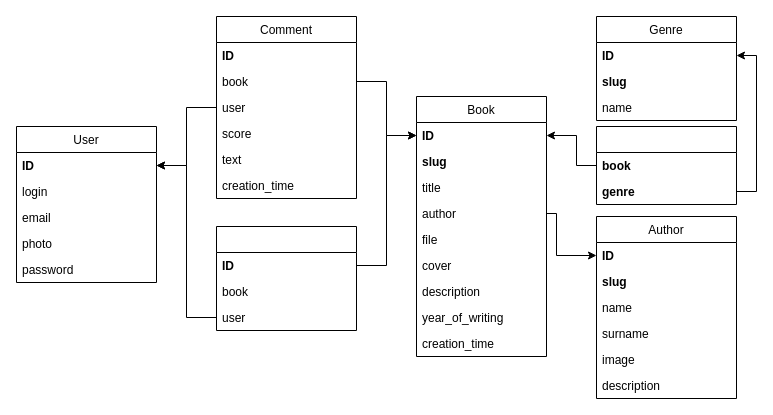
This 773x415 diagram has some shape labels left out. Each missing label, with the box of its shape:
BookGenre: (596, 126, 736, 204)
Reading: (216, 226, 356, 330)
